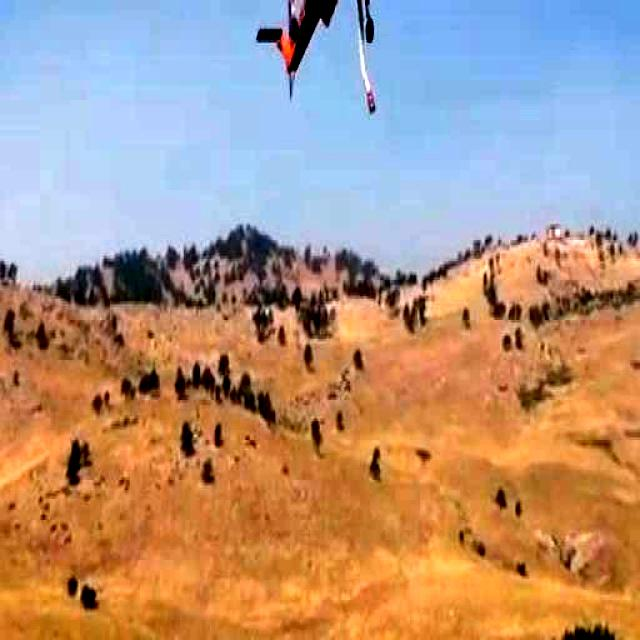drone: (189, 0, 465, 114)
